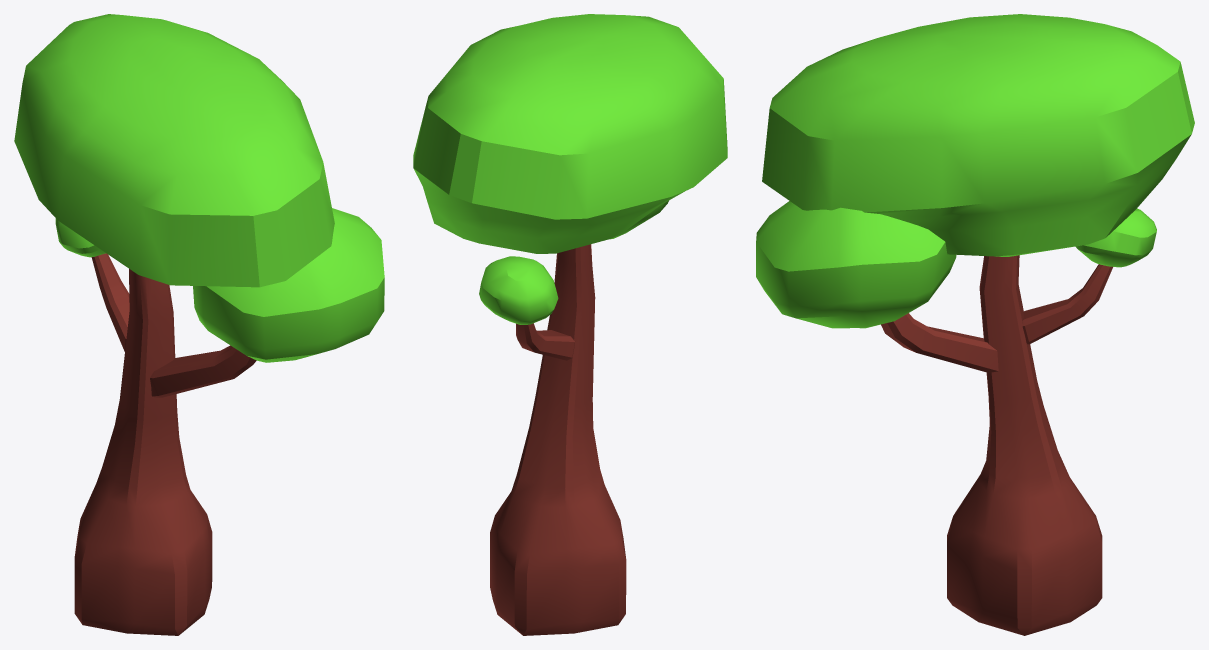
File: tree4.fbx
3 views of the same model, side by side, from view 1: azimuth 30°, elevation 25°; view 2: azimuth 150°, elevation 25°; view 3: azimuth 270°, elevation 25° (orthographic). The views are drawn at different scales.
Parts seen in each view (by area): view 1: Cylinder.009; view 2: Cylinder.009; view 3: Cylinder.009.
Boxes of the visible parts, x1=… form: Cylinder.009: x1=14, y1=14, x2=384, y2=635; Cylinder.009: x1=413, y1=14, x2=727, y2=635; Cylinder.009: x1=756, y1=14, x2=1194, y2=635.
Bounding box in the file's own units: 372 × 765 × 527.
